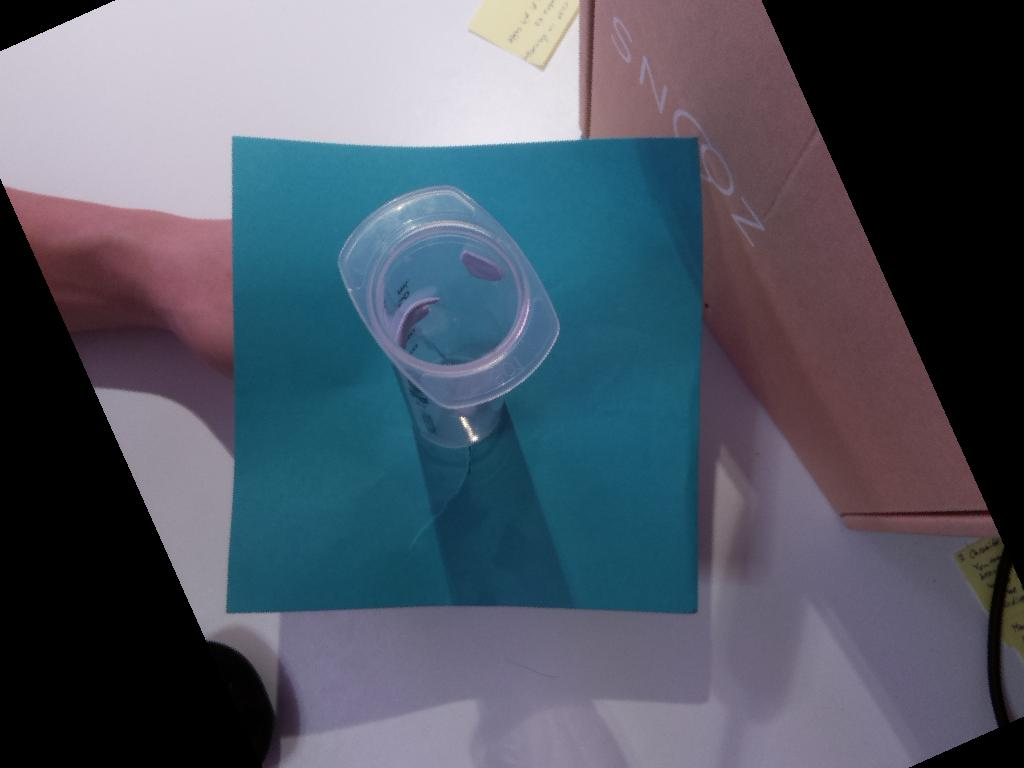dirty: (336, 184, 560, 410)
